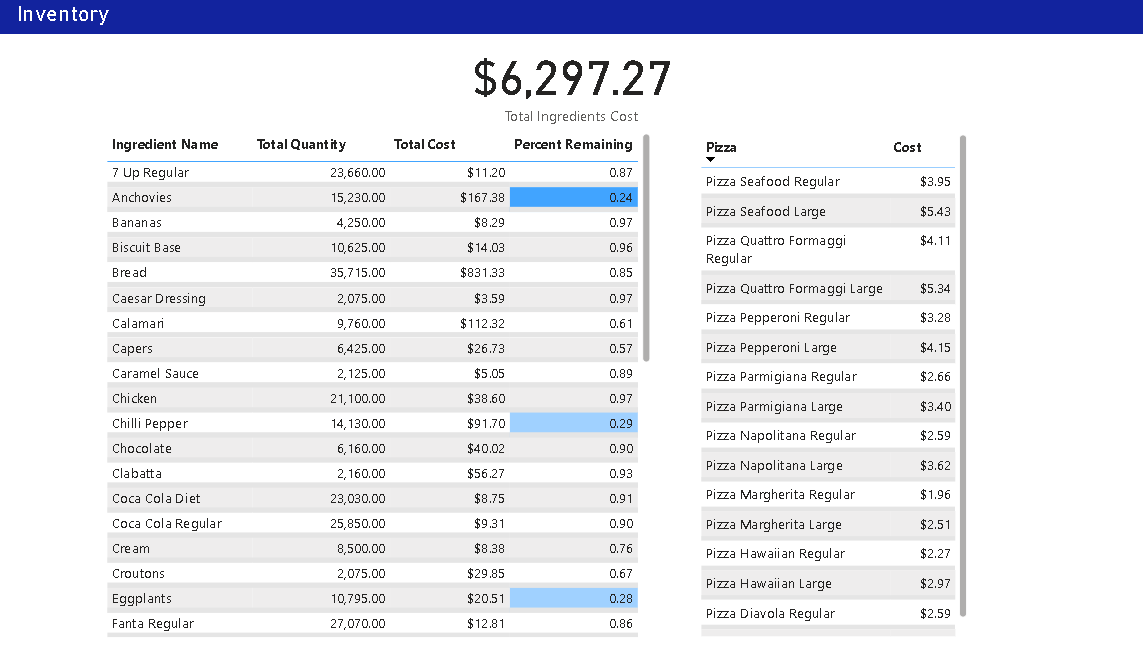

Layout of this report page (visuals, bound fields, positions):
{"tool":"powerbi","page":{"name":"Inventory","canvas":[1280,720],"ordinal":1},"visuals":[{"type":"textbox","box":[0,0,1280.2,41.9],"z":0},{"type":"tableEx","fields":{"Values":["pizzadb stock1.ing_name","Sum(pizzadb stock1.ordered_weight)","Sum(pizzadb stock1.ingredient_cost)","pizzadb stock2.Percent Remaining"]},"box":[115,147.5,617.5,572.5],"z":1000},{"type":"card","fields":{"Values":["Sum(pizzadb stock1.ingredient_cost)"]},"box":[0,41.9,1280.2,105.8],"z":2000},{"type":"tableEx","fields":{"Values":["pizzadb stock1.item_name","Sum(pizzadb stock1.Cost of Pizza)"]},"box":[778.8,148.8,307.5,571.2],"z":3000}]}

Visuals, with their boxes in screenshot pixels (x1, y1, x2, y2), scaled from the page's 1280x720 canvas onto the 1143x652 screenshot:
textbox: <region>0, 0, 1142, 38</region>
tableEx - pizzadb stock1.ing_name x Sum(pizzadb stock1.ordered_weight): <region>103, 134, 654, 651</region>
card - Sum(pizzadb stock1.ingredient_cost): <region>0, 38, 1142, 134</region>
tableEx - pizzadb stock1.item_name x Sum(pizzadb stock1.Cost of Pizza): <region>695, 135, 970, 651</region>
